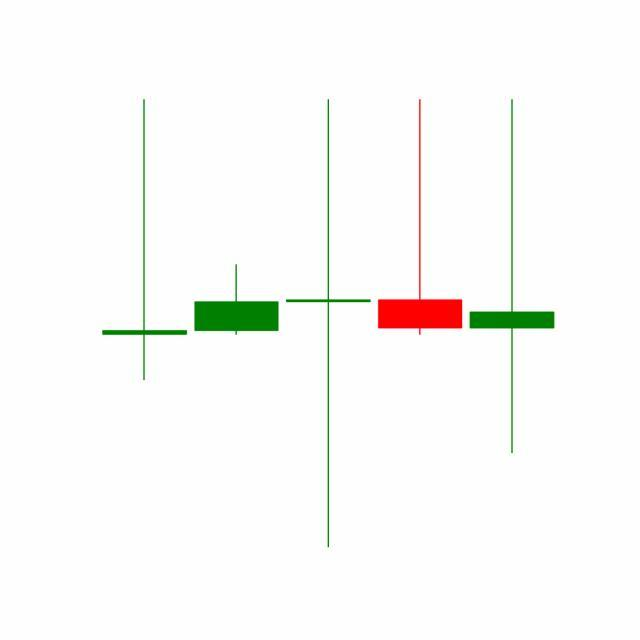Gravestone Doji: (374, 97, 468, 339)
